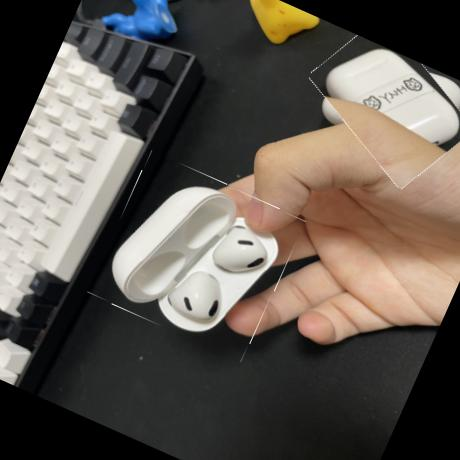airpod2: (291, 25, 459, 193)
airpod3: (85, 150, 306, 362)
